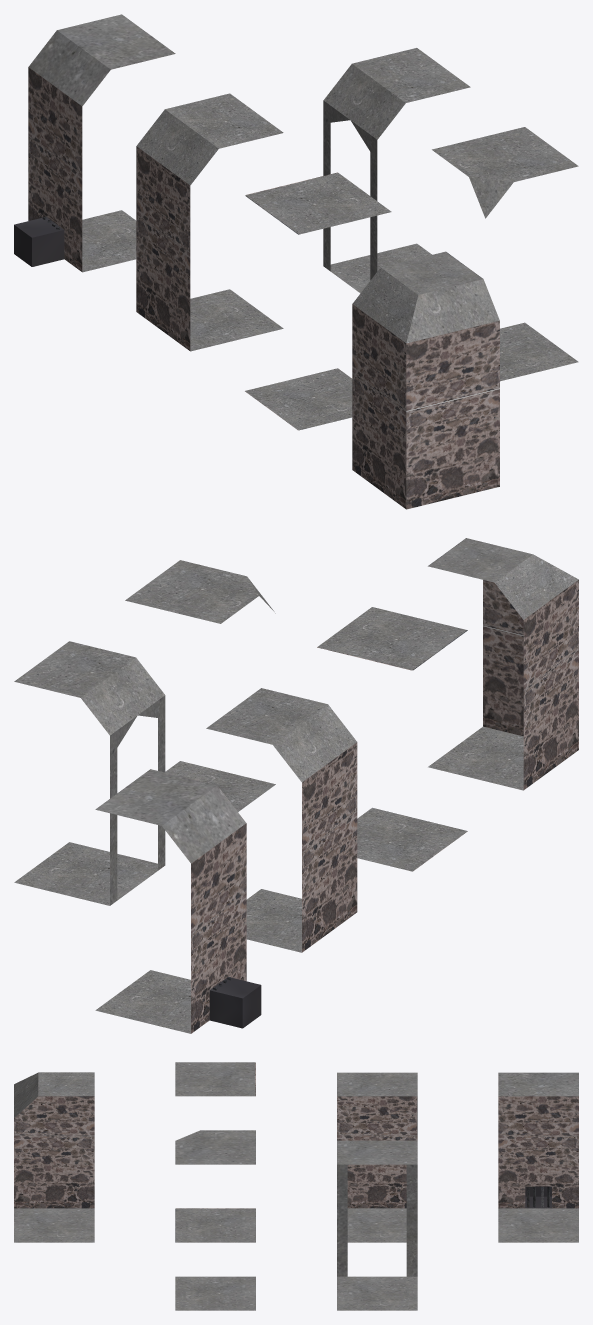
File: Skooks Tiles.glb
The picture shows the model from 3 angles, top to bottom: view 1: azimuth 30°, elevation 25°; view 2: azimuth 150°, elevation 25°; view 3: azimuth 270°, elevation 25°; orthographic projection. The views are drawn at different scales.
Visible parts, largest first — view 1: Skooks_corner-col, Skooks_wall_alt-col, Skooks_wall-col, Skooks_door-col, Skooks_floor-col, Skooks_floor_corner-col; view 2: Skooks_corner-col, Skooks_wall_alt-col, Skooks_wall-col, Skooks_door-col, Skooks_floor-col, Skooks_floor_corner-col; view 3: Skooks_wall_alt-col, Skooks_corner-col, Skooks_wall-col, Skooks_door-col, Skooks_floor-col, Skooks_floor_corner-col.
Part boxes in pixels (left/top/right/bottom): Skooks_corner-col: left=352, top=251, right=499, bottom=509; Skooks_wall_alt-col: left=14, top=14, right=175, bottom=272; Skooks_wall-col: left=136, top=93, right=283, bottom=351; Skooks_door-col: left=323, top=48, right=470, bottom=293; Skooks_floor-col: left=245, top=172, right=391, bottom=430; Skooks_floor_corner-col: left=432, top=127, right=578, bottom=381; Skooks_corner-col: left=428, top=538, right=578, bottom=790; Skooks_wall_alt-col: left=95, top=769, right=261, bottom=1033; Skooks_wall-col: left=206, top=688, right=357, bottom=952; Skooks_door-col: left=14, top=641, right=165, bottom=905; Skooks_floor-col: left=317, top=607, right=467, bottom=871; Skooks_floor_corner-col: left=125, top=560, right=275, bottom=811; Skooks_wall_alt-col: left=498, top=1072, right=578, bottom=1242; Skooks_corner-col: left=14, top=1072, right=94, bottom=1242; Skooks_wall-col: left=337, top=1072, right=417, bottom=1242; Skooks_door-col: left=337, top=1140, right=417, bottom=1310; Skooks_floor-col: left=175, top=1062, right=255, bottom=1242; Skooks_floor_corner-col: left=175, top=1130, right=255, bottom=1310.
Size of the model in its own units: 3.35 by 2.01 by 7.
Materials: 1 (1 with a texture image).
